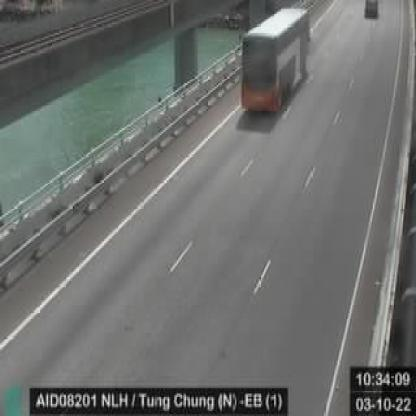Bus: (241, 7, 308, 111)
